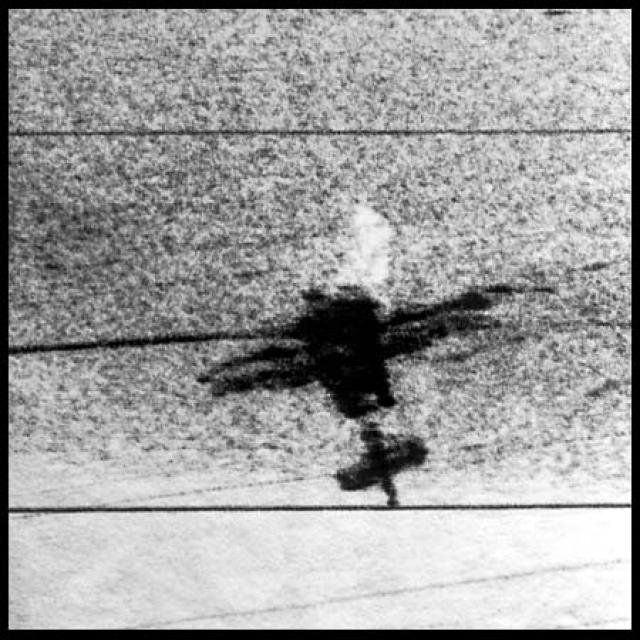plane: (170, 224, 530, 520)
